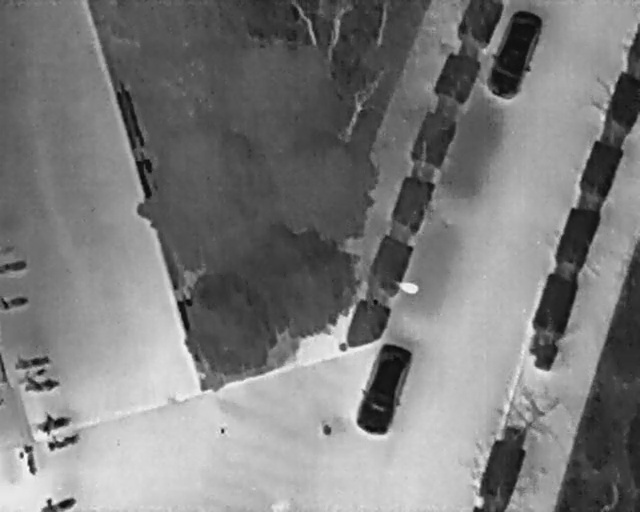Bicycle: (30, 406, 73, 438), (41, 427, 81, 454), (12, 363, 49, 388), (12, 351, 52, 371), (20, 442, 41, 478), (22, 376, 60, 394), (40, 496, 77, 510), (0, 257, 27, 275), (0, 294, 29, 310)
Car: (480, 1, 549, 106), (349, 338, 418, 441)
